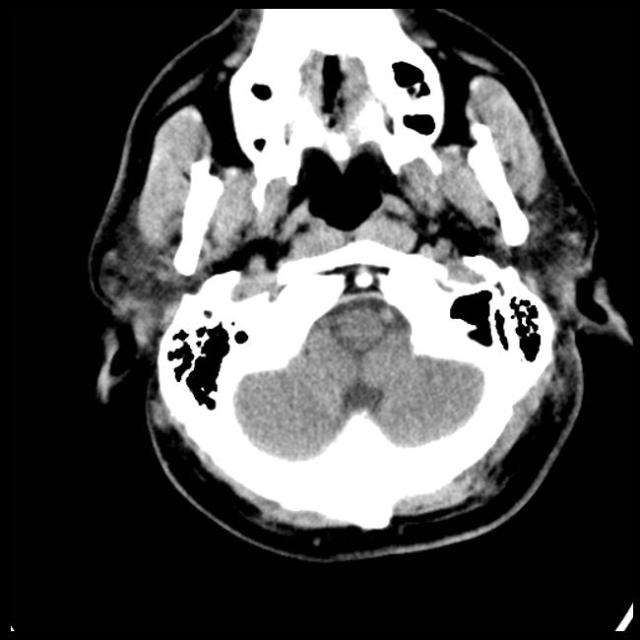lesion: (86, 6, 628, 559)
